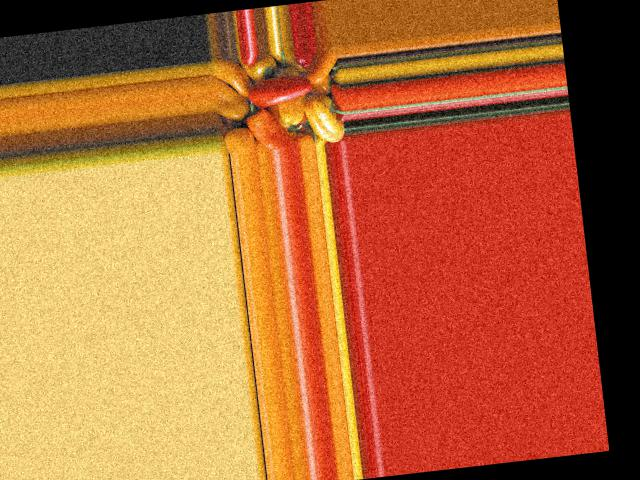bell_pepper: (301, 95, 346, 143)
